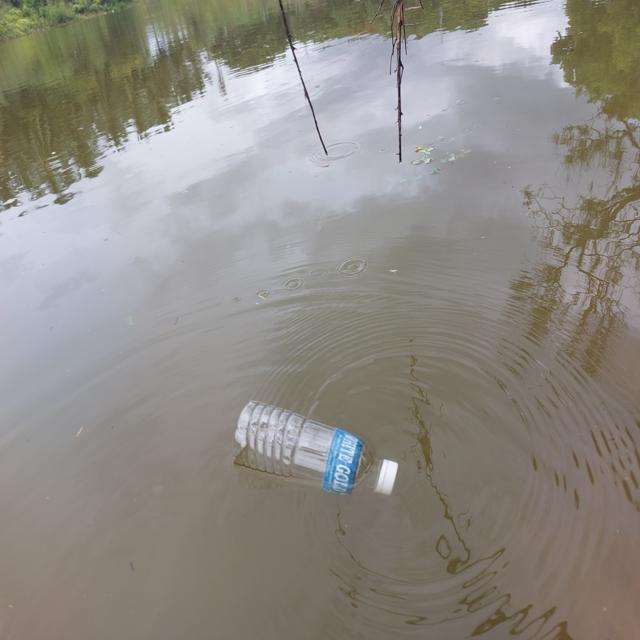waterbottle: (234, 398, 402, 506)
